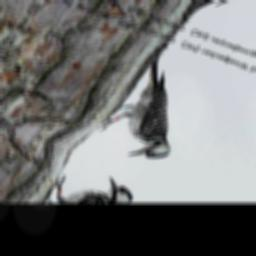Woodpecker: (84, 48, 233, 167)
